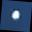Squash-Ball: (1, 1, 32, 32)
